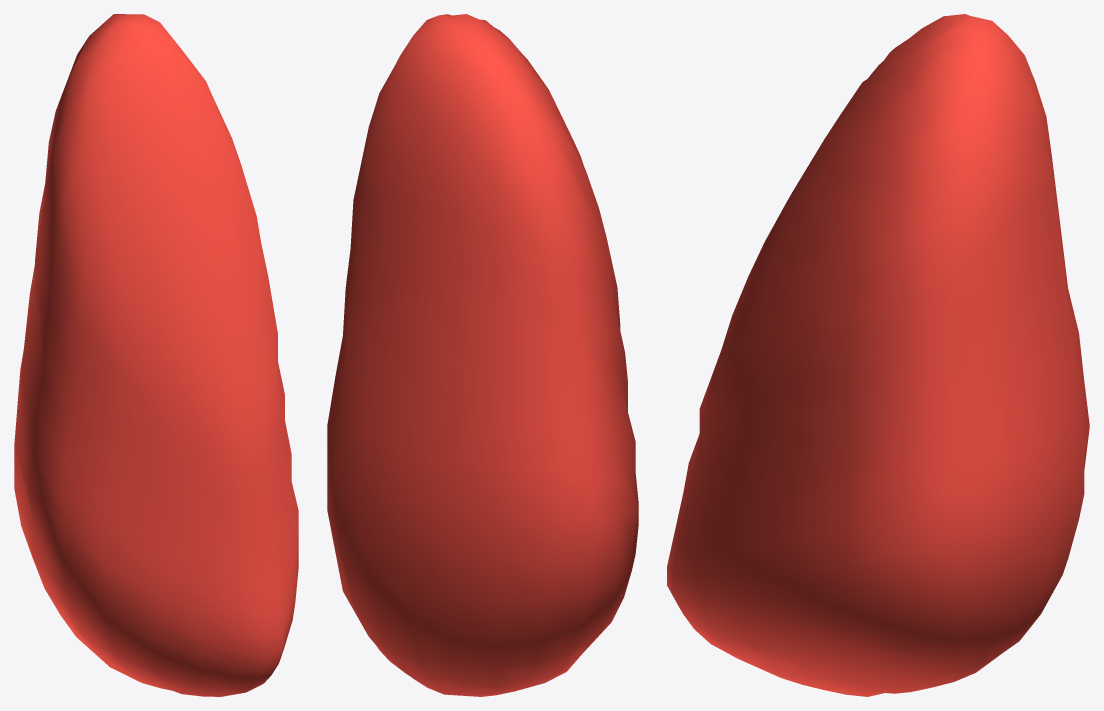
Rendered from Heli_cabi0.obj.
3 renders of one model, left to right at view 1: azimuth 30°, elevation 25°; view 2: azimuth 150°, elevation 25°; view 3: azimuth 270°, elevation 25°, orthographic. The views are drawn at different scales.
Parts seen in each view (by area): view 1: CABI_2; view 2: CABI_2; view 3: CABI_2.
Part boxes in pixels (left/top/right/bottom): CABI_2: left=14, top=14, right=298, bottom=696; CABI_2: left=327, top=14, right=638, bottom=696; CABI_2: left=667, top=14, right=1089, bottom=696.
Size of the model in its own units: 0.52 by 1.36 by 0.78.
